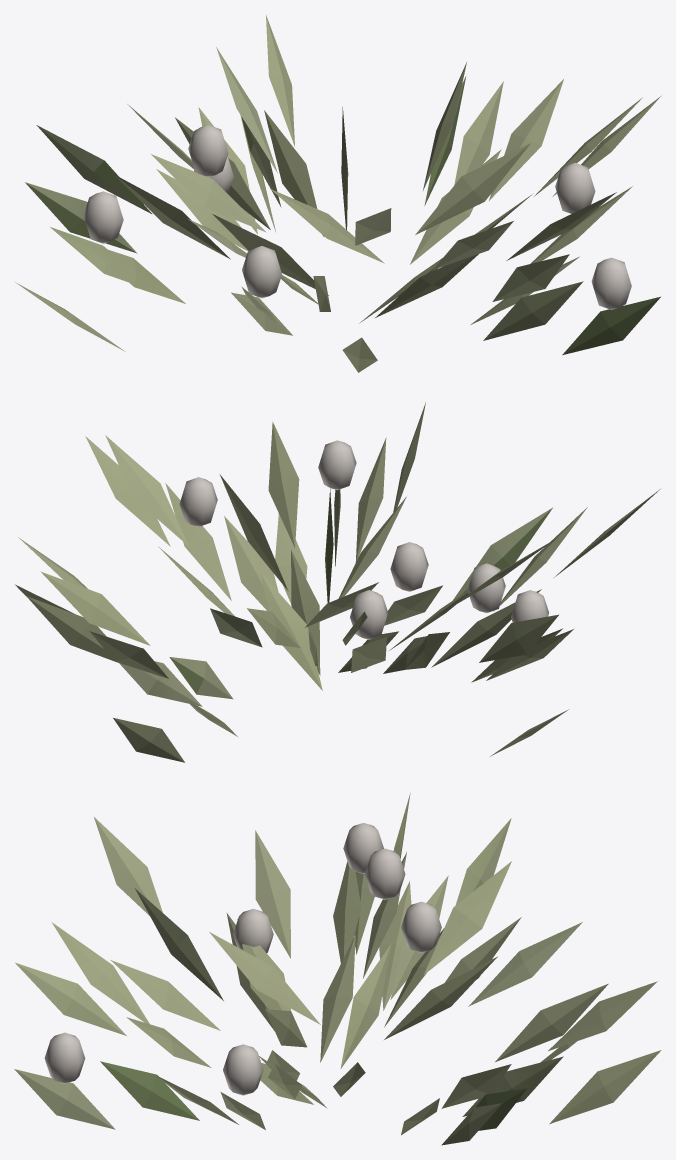
The model's file is mobile.glb.
3 renders of one model, top to bottom at view 1: azimuth 30°, elevation 25°; view 2: azimuth 150°, elevation 25°; view 3: azimuth 270°, elevation 25°, orthographic. The views are drawn at different scales.
Size of the model in its own units: 0.5764 by 0.1979 by 0.5713.
1 material, 1 textured.
